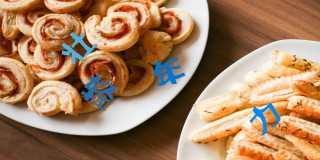力: (248, 101, 281, 136)
壮: (63, 33, 97, 64)
年: (154, 57, 185, 86)
轻: (82, 75, 115, 112)
